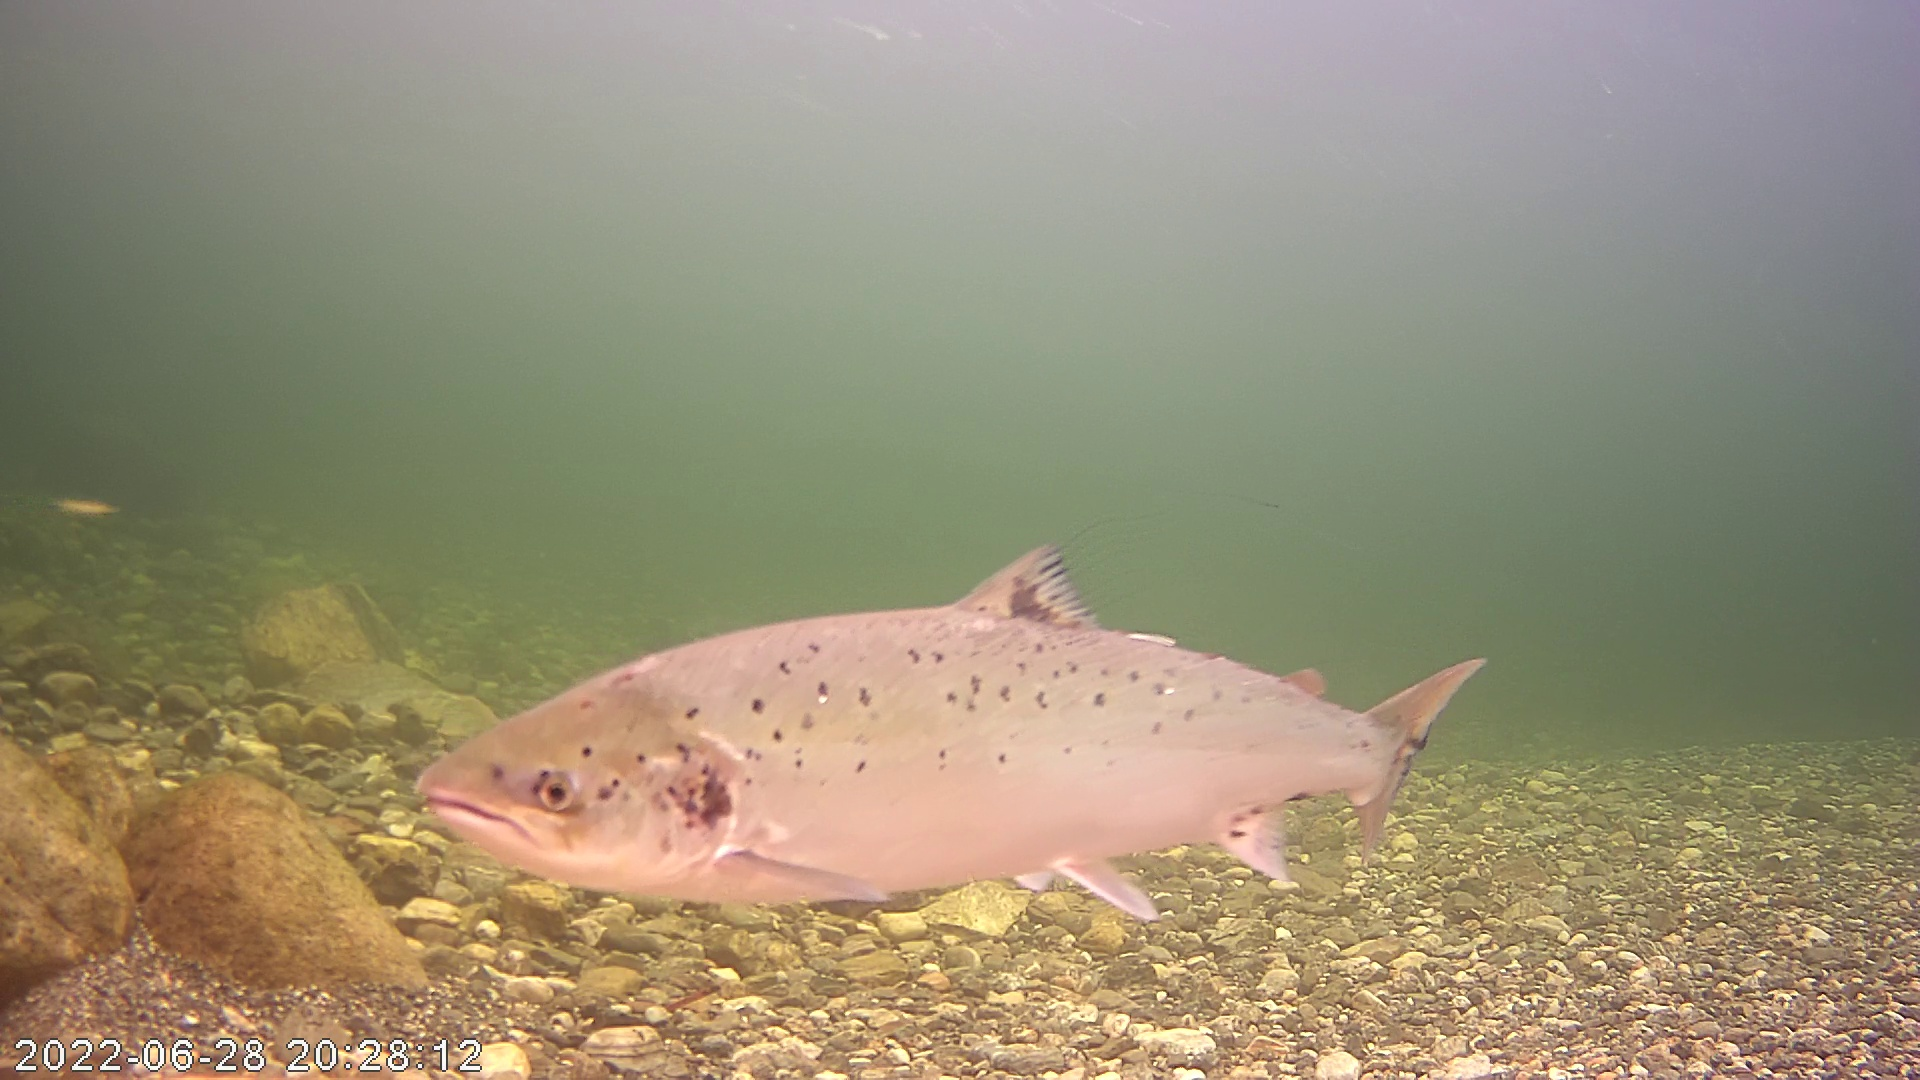salmon: (390, 505, 1465, 916)
